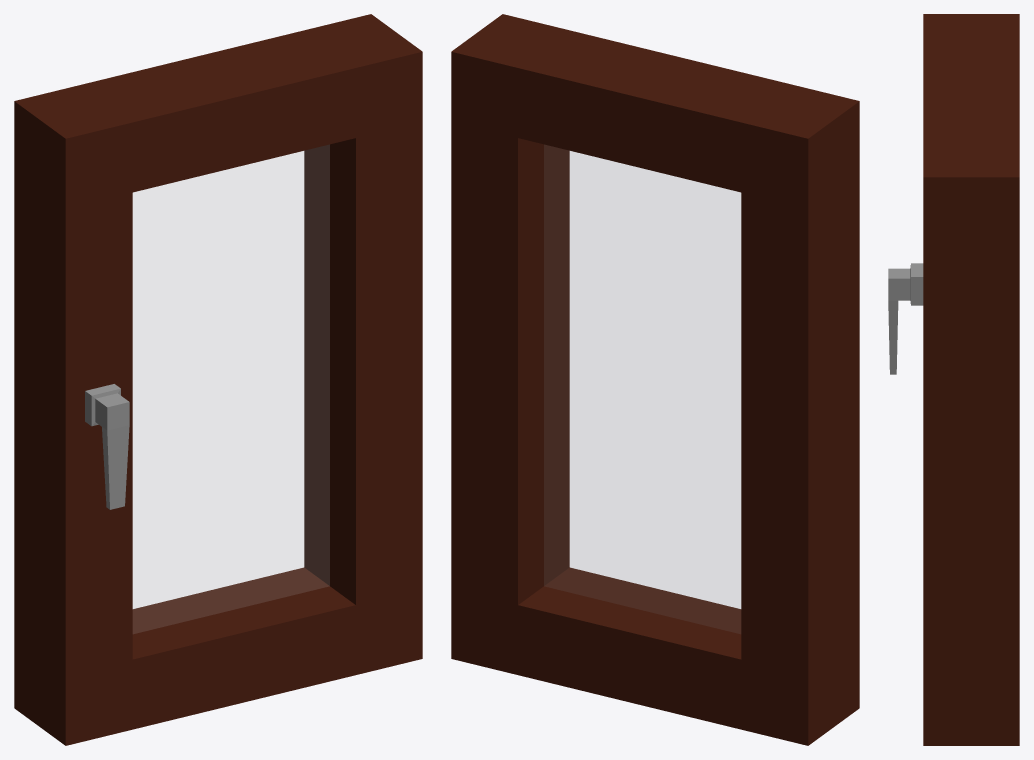
The model's file is smallwindow.fbx.
3 views of the same model, side by side, from view 1: azimuth 30°, elevation 25°; view 2: azimuth 150°, elevation 25°; view 3: azimuth 270°, elevation 25° (orthographic). The views are drawn at different scales.
Visible parts, largest first — view 1: Cube.001, Plane, Cube; view 2: Cube.001, Plane; view 3: Cube.001, Cube.
Part boxes in pixels (left/top/right/bottom): Cube.001: left=14, top=14, right=422, bottom=745; Plane: left=133, top=145, right=329, bottom=633; Cube: left=85, top=384, right=129, bottom=509; Cube.001: left=451, top=14, right=859, bottom=745; Plane: left=544, top=145, right=740, bottom=633; Cube.001: left=923, top=14, right=1019, bottom=745; Cube: left=888, top=263, right=923, bottom=374.
Bounding box in the file's own units: 160 × 260 × 54.47.
